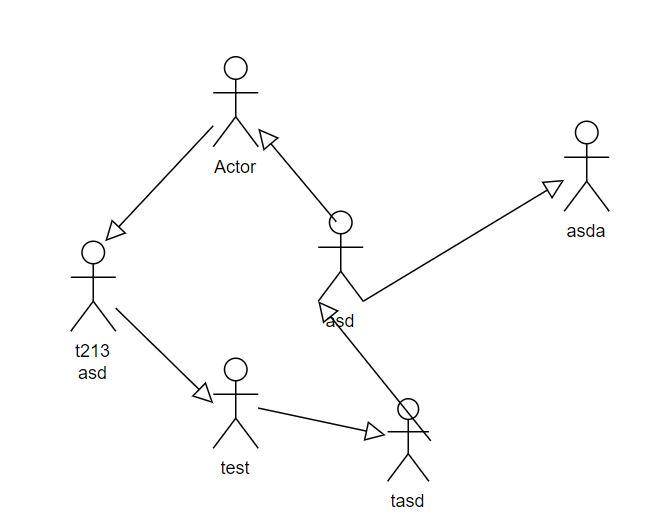actor: (211, 358, 257, 450), (565, 120, 610, 212), (318, 209, 362, 302), (214, 55, 258, 146), (72, 240, 115, 332), (388, 398, 428, 482)
generalization: (361, 179, 563, 303), (318, 302, 431, 439), (104, 126, 215, 239), (114, 308, 212, 402), (257, 128, 336, 221), (258, 406, 385, 443)
text: (70, 343, 110, 380), (385, 486, 428, 513), (212, 156, 255, 180), (218, 455, 254, 480), (565, 223, 604, 241), (324, 312, 354, 330)
